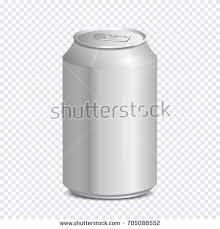Aluminum can: (51, 14, 166, 206)
